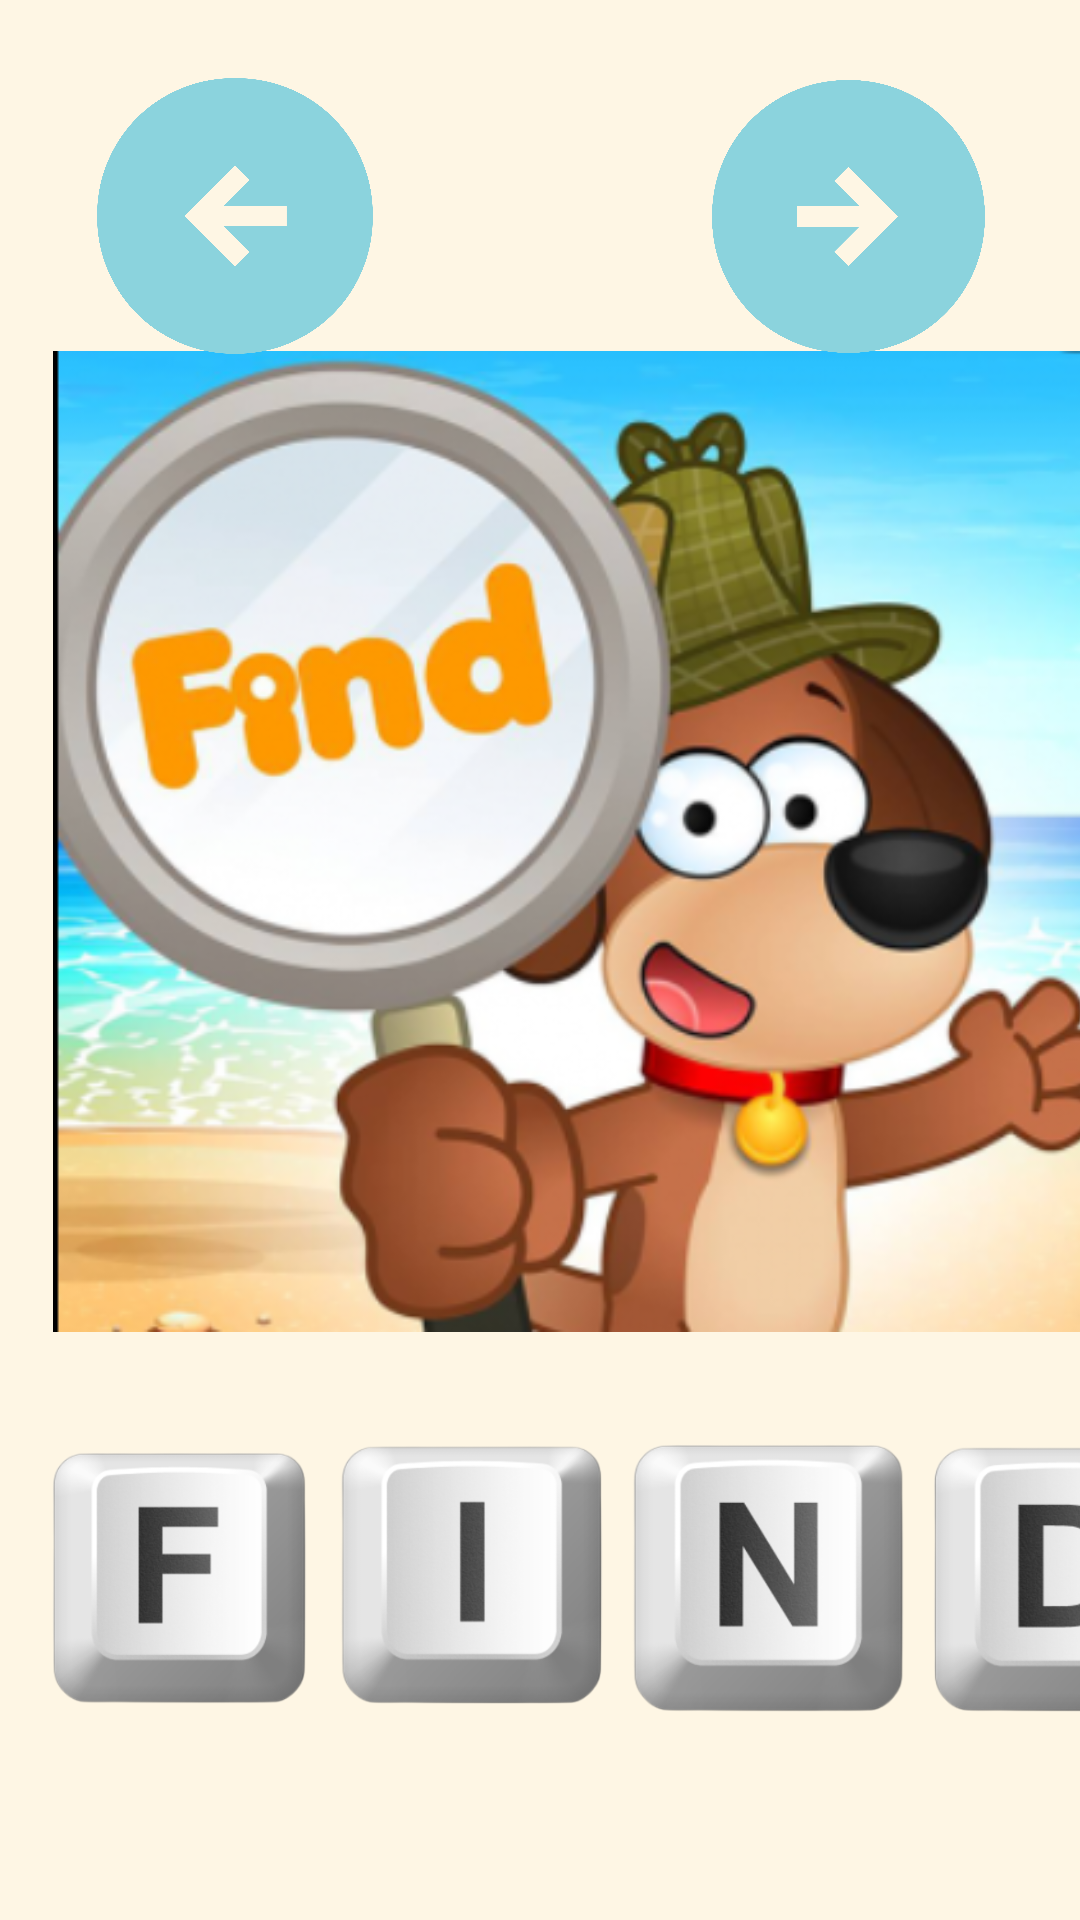

Where to tap for icons on this 1080 x 1920 app screen, as (x,y):
next: (848,219)
